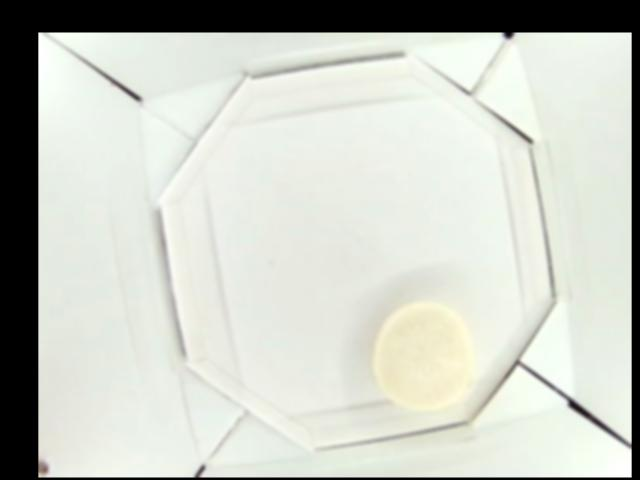Mooli: (370, 302, 477, 408)
